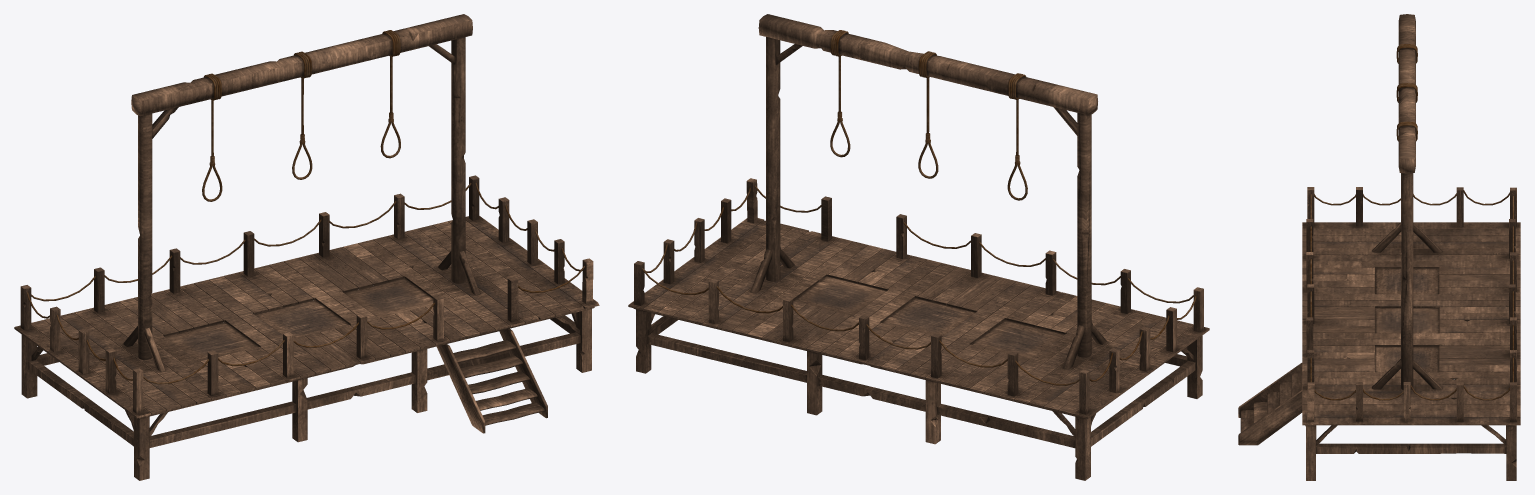
File: 3D_gallow_1.fbx
3 views of the same model, side by side, from view 1: azimuth 30°, elevation 25°; view 2: azimuth 150°, elevation 25°; view 3: azimuth 270°, elevation 25° (orthographic). The views are drawn at different scales.
Visible parts, largest first — view 1: Gallow_1; view 2: Gallow_1; view 3: Gallow_1.
Boxes of the visible parts, x1,y1,x2,y2 form: Gallow_1: (14, 14, 599, 480); Gallow_1: (628, 14, 1209, 480); Gallow_1: (1238, 14, 1520, 480).
Size of the model in its own units: 589 by 403 by 349.
